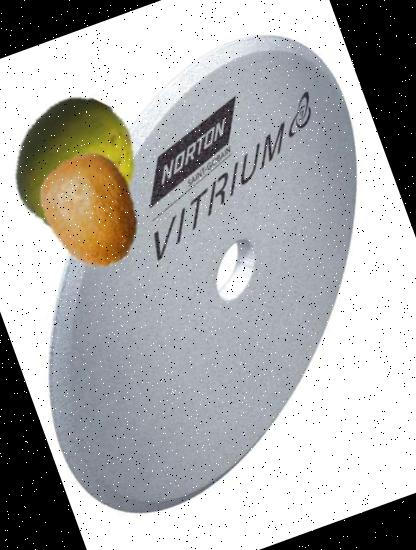Kiwi: (15, 135, 165, 285)
Pomelo: (0, 78, 161, 250)
